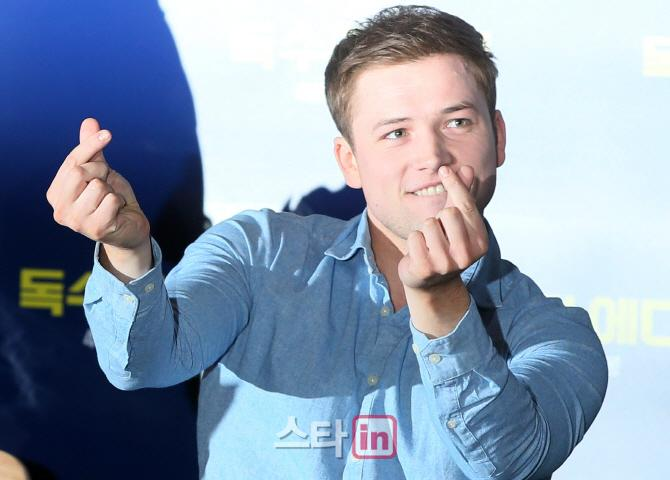heart gesture: (436, 163, 476, 207), (78, 115, 114, 160)
